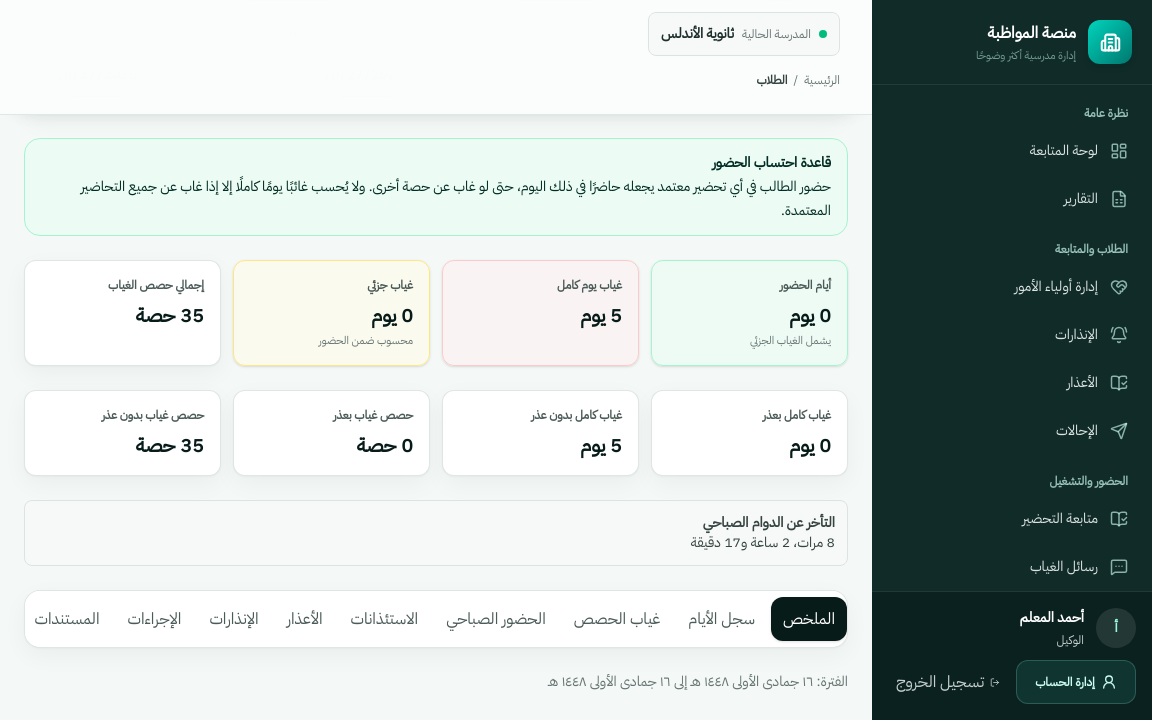
Test case: student documents tab (Phase 12) › prevents generating a duplicate warning document when one already exists
The width and height of the screenshot is (1152, 720).
(page scrolled)
Step 1. Click the button "المستندات" → (67, 619), box [23,597,112,641]
(page scrolled)
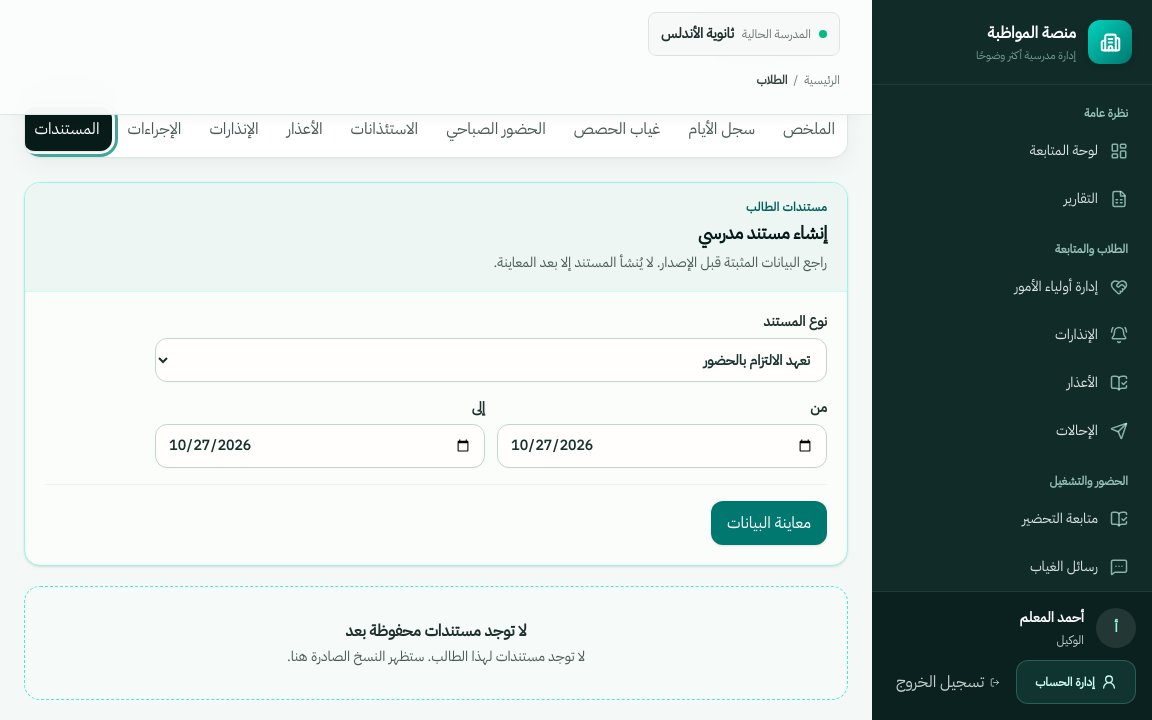
Step 2. Select "الإنذار الثاني" in the dropdown with test id "document-type" → (491, 360), box [155,338,827,382]
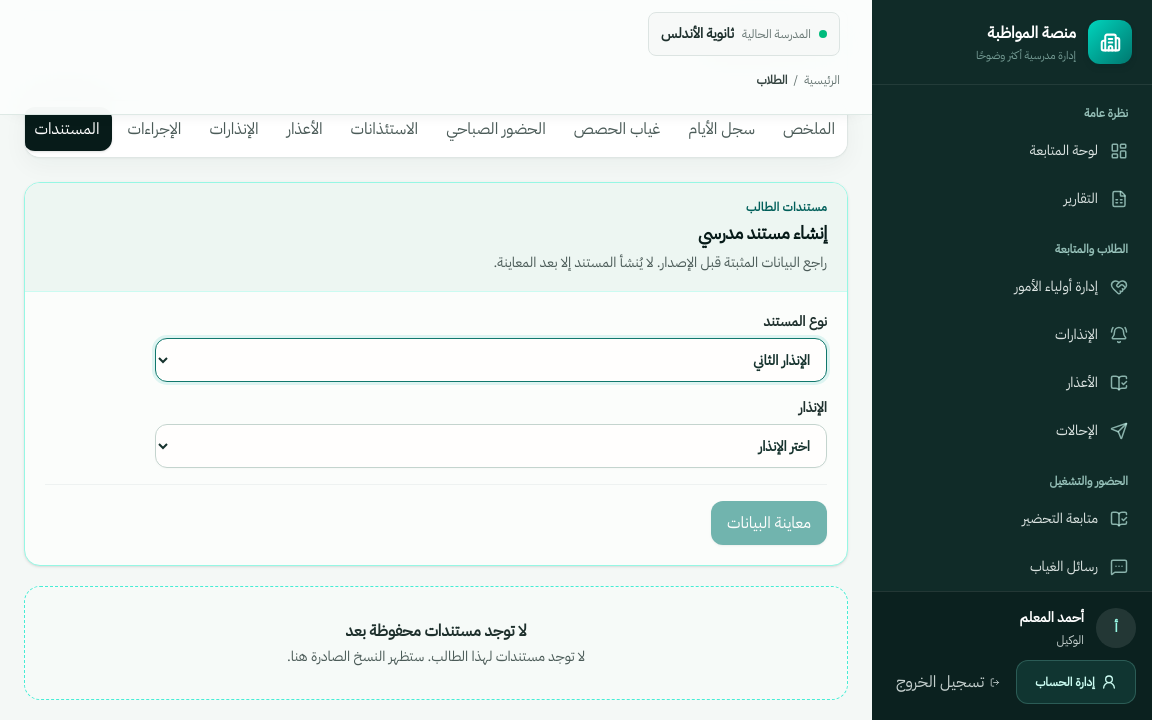
Step 3. Select "الإنذار الثاني — غياب يوم كامل بدون عذر" in the dropdown with test id "document-warning" → (491, 446), box [155,424,827,468]
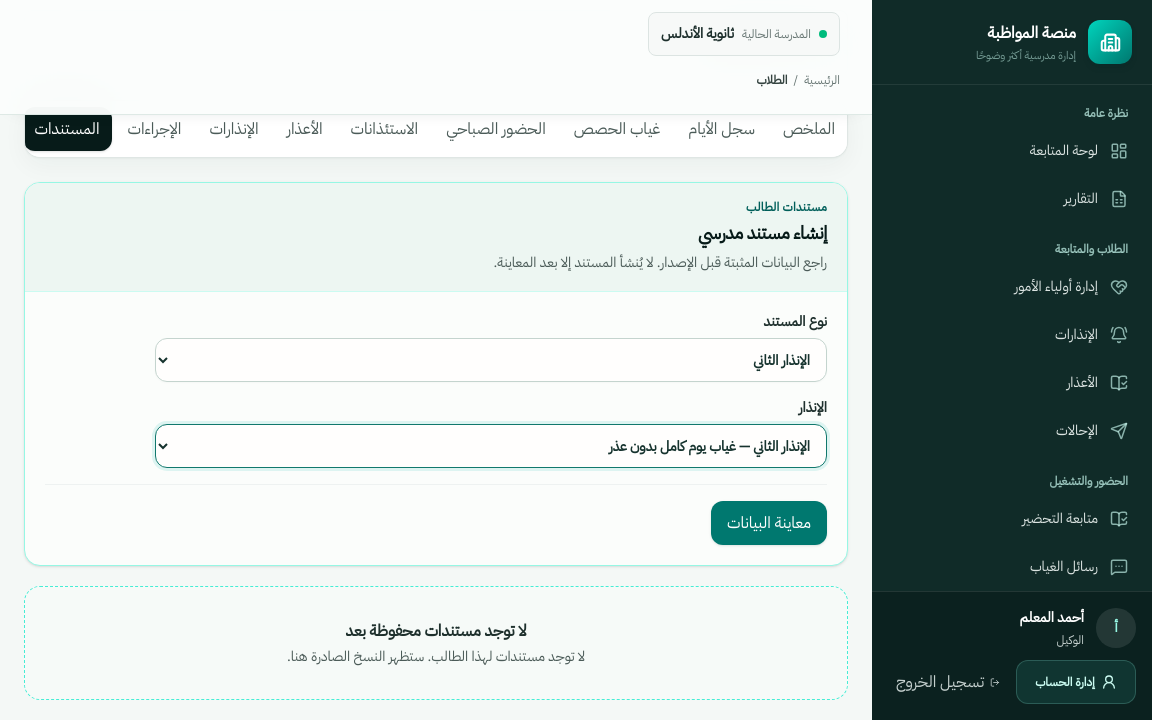
Step 4. Click the button with test id "preview-document" → (769, 523), box [711,501,827,545]
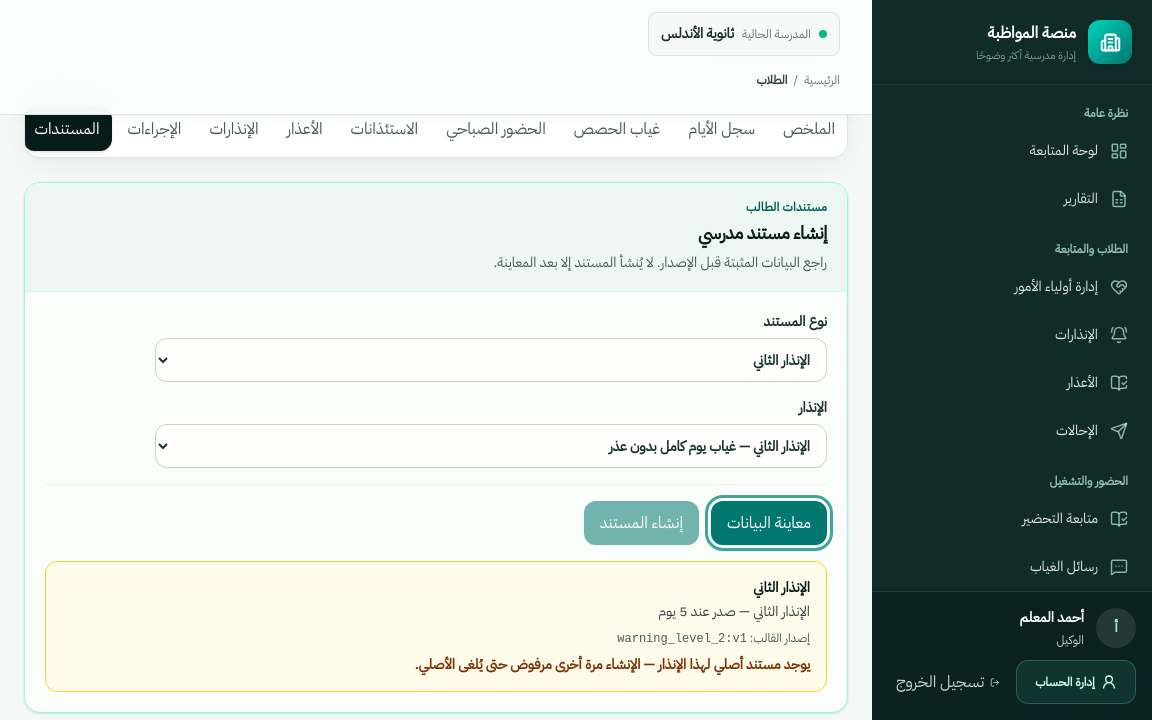
Now the element with test id "document-preview" shows "يوجد مستند أصلي", box [415,654,810,675]
Now the button with test id "create-document" is disabled, box [584,501,699,545]
